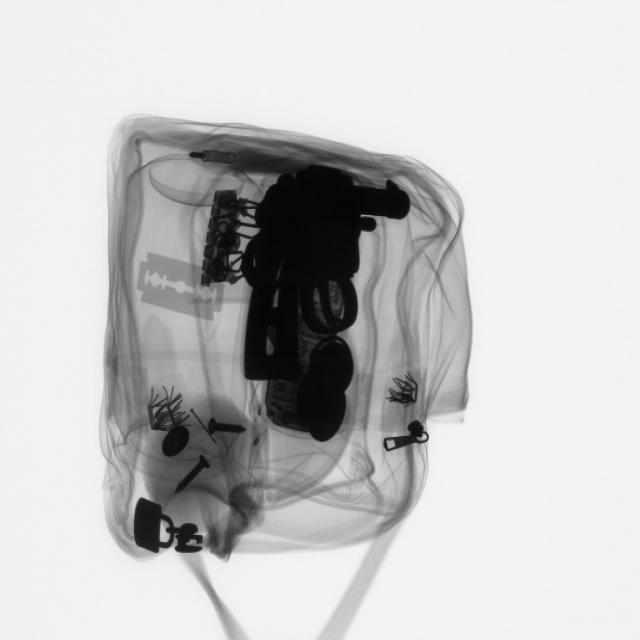BLADE: (134, 247, 233, 336)
GUN: (235, 166, 411, 388)
SCREW: (173, 450, 215, 501), (199, 414, 254, 446)
